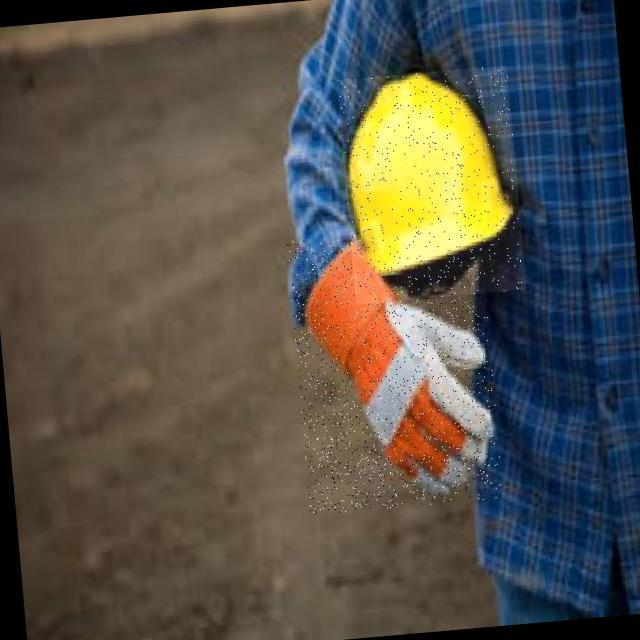Gloves: (300, 229, 515, 512)
Helmet: (320, 74, 518, 264)
